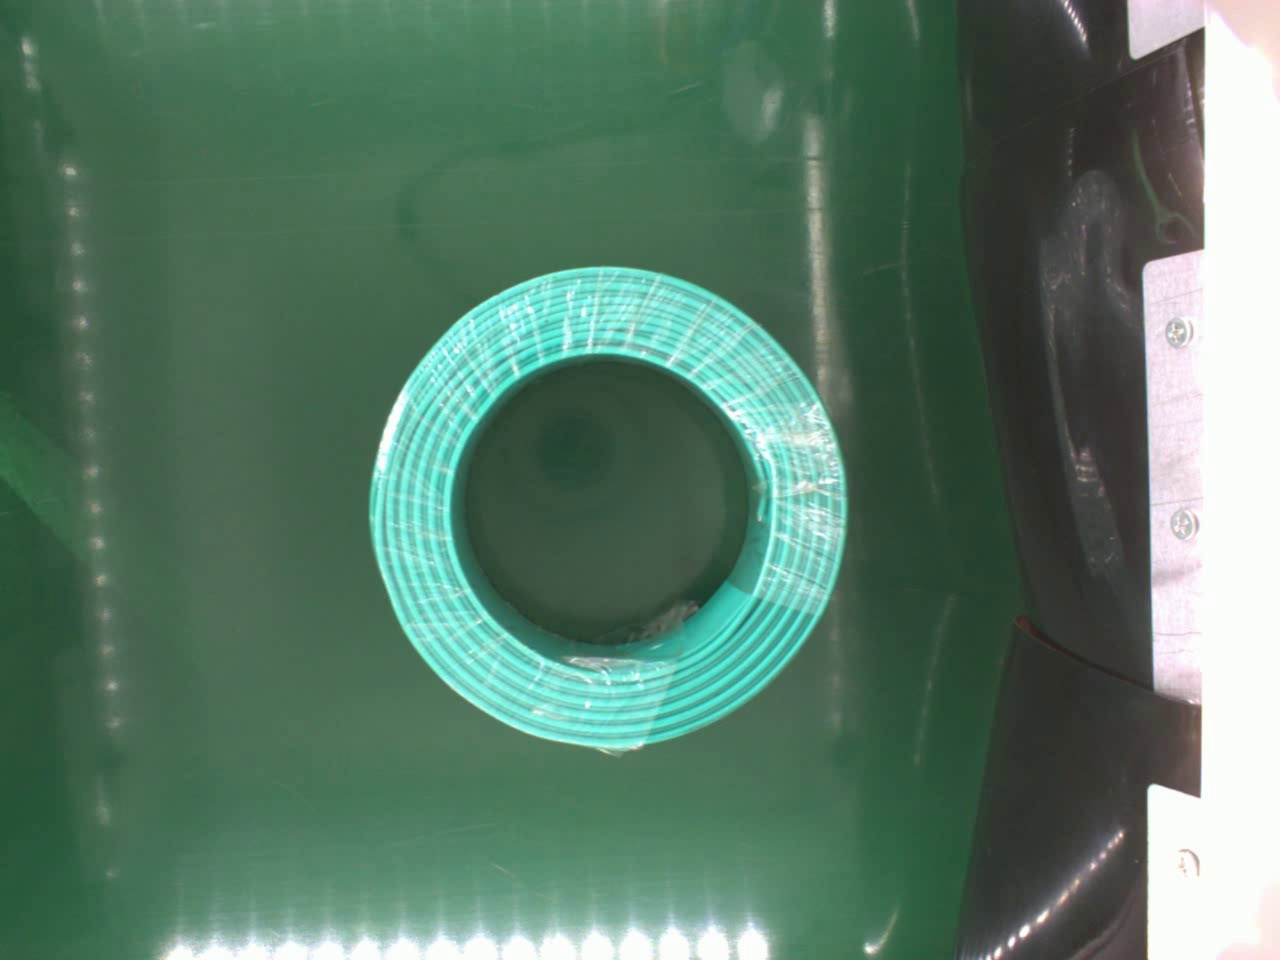green: (356, 262, 847, 756)
